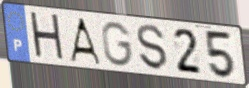2: (171, 27, 202, 76)
5: (204, 28, 238, 80)
A: (67, 17, 103, 67)
G: (100, 21, 135, 69)
H: (27, 10, 67, 64)
S: (135, 23, 170, 73)
